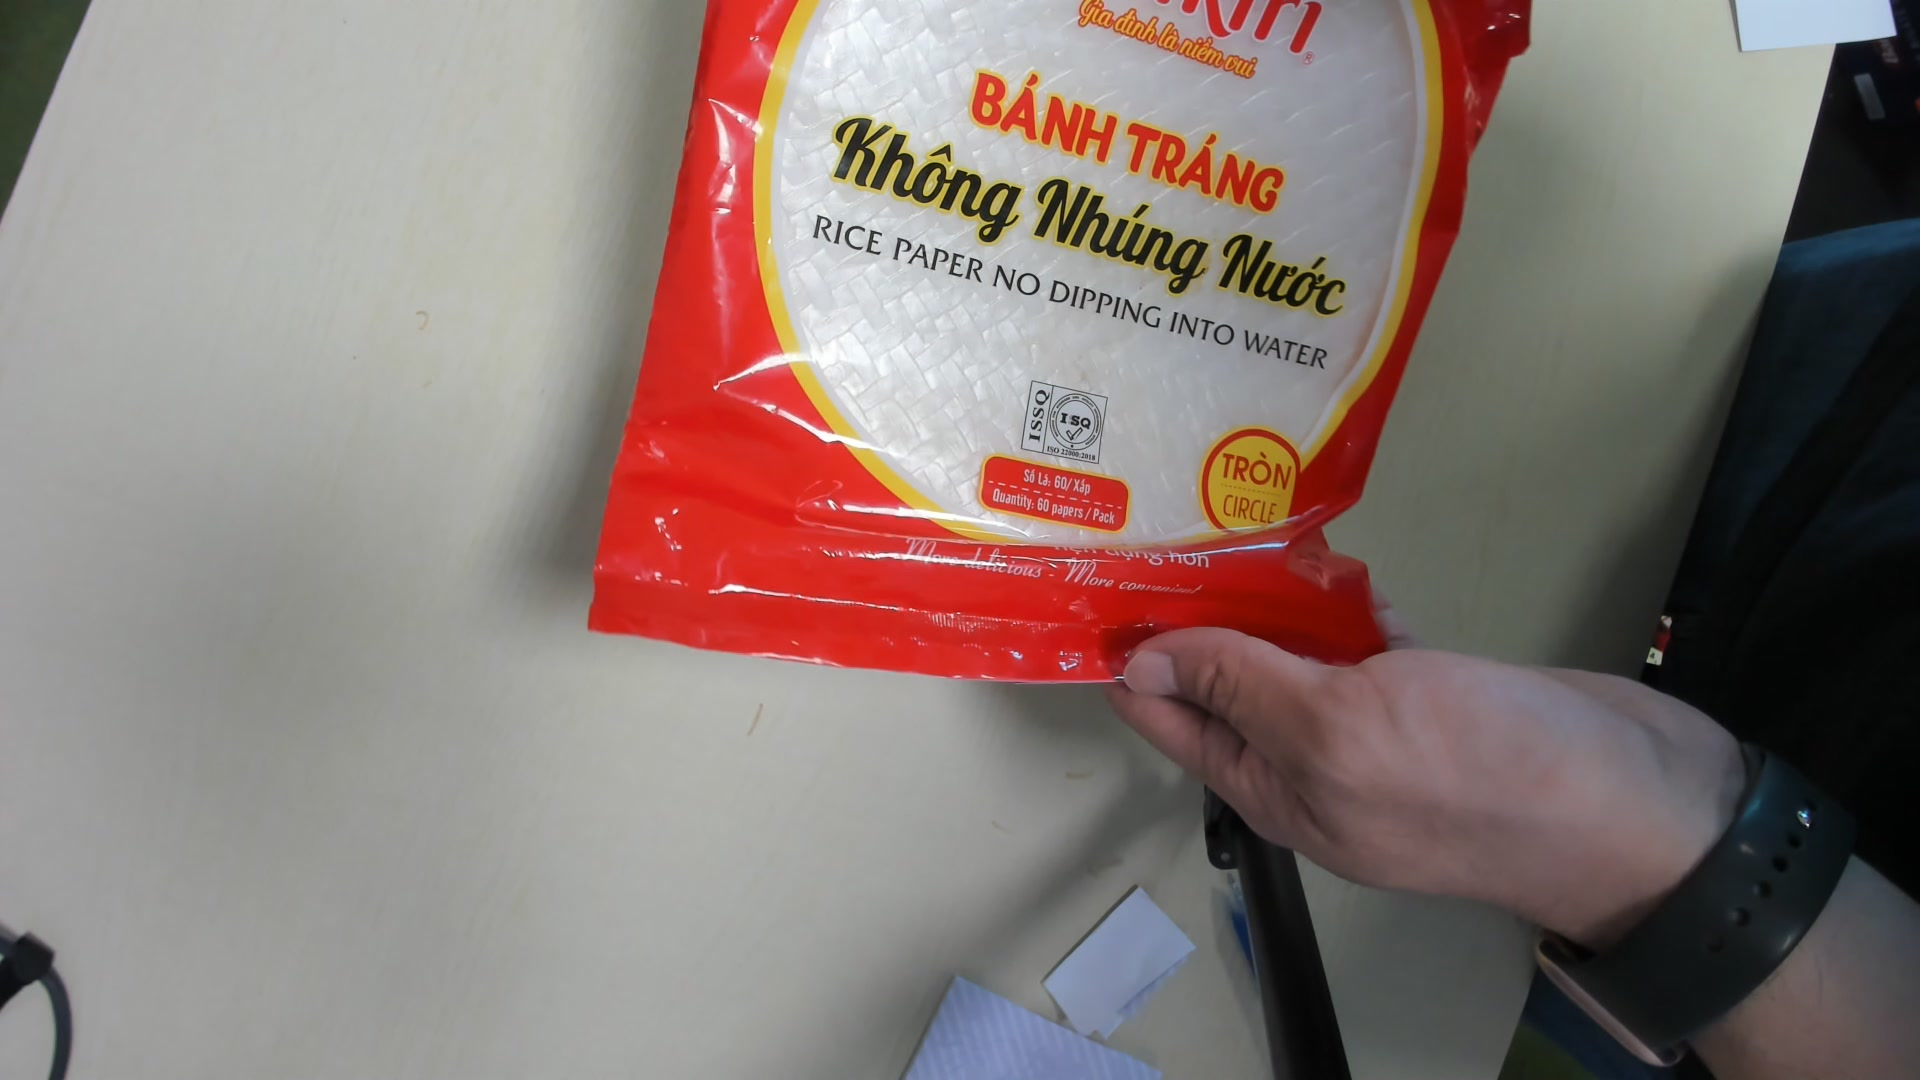InstantMeals_200_299g_NonHalal_NonHealthy: (575, 3, 1527, 688)
